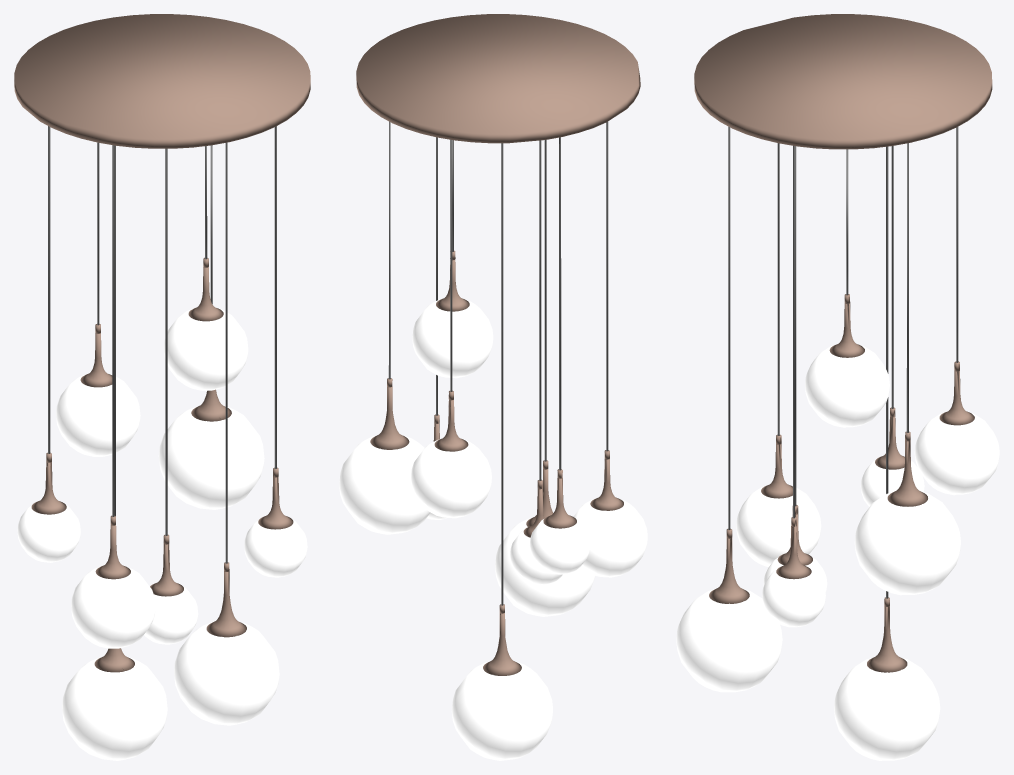
File: pend_globo.glb
3 renders of one model, left to right at view 1: azimuth 30°, elevation 25°; view 2: azimuth 150°, elevation 25°; view 3: azimuth 270°, elevation 25°, orthographic. The views are drawn at different scales.
Visible parts, largest first — view 1: Sphere033_Glass_plafon_white_mat_0, Cylinder010_Metall_Bronza_Poloski_lak_0, Cylinder012_Metal_Chrom_Satin_gray_0; view 2: Cylinder010_Metall_Bronza_Poloski_lak_0, Sphere033_Glass_plafon_white_mat_0, Cylinder012_Metal_Chrom_Satin_gray_0; view 3: Sphere033_Glass_plafon_white_mat_0, Cylinder010_Metall_Bronza_Poloski_lak_0, Cylinder012_Metal_Chrom_Satin_gray_0.
Boxes of the visible parts, x1,y1,x2,y2 form: Sphere033_Glass_plafon_white_mat_0: [17, 308, 307, 760]; Cylinder010_Metall_Bronza_Poloski_lak_0: [14, 14, 310, 672]; Cylinder012_Metal_Chrom_Satin_gray_0: [48, 126, 276, 563]; Cylinder010_Metall_Bronza_Poloski_lak_0: [356, 14, 640, 675]; Sphere033_Glass_plafon_white_mat_0: [339, 299, 647, 760]; Cylinder012_Metal_Chrom_Satin_gray_0: [388, 121, 608, 605]; Sphere033_Glass_plafon_white_mat_0: [676, 345, 999, 760]; Cylinder010_Metall_Bronza_Poloski_lak_0: [694, 14, 992, 672]; Cylinder012_Metal_Chrom_Satin_gray_0: [728, 126, 958, 598].
Bounding box in the file's own units: 0.5001 × 1.28 × 0.5435.
